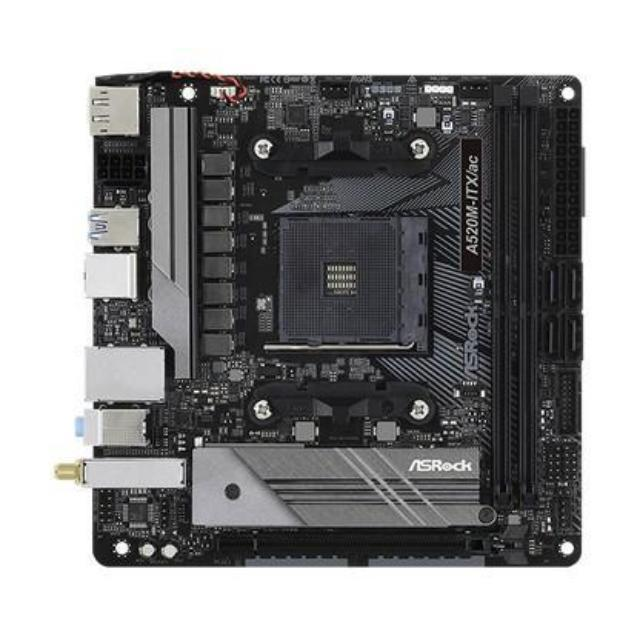Mainboard: (74, 52, 586, 580)
